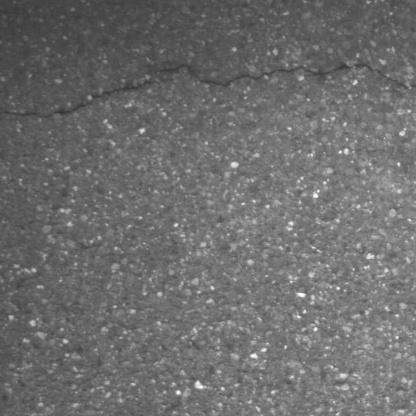Cracks: (0, 60, 416, 127)
